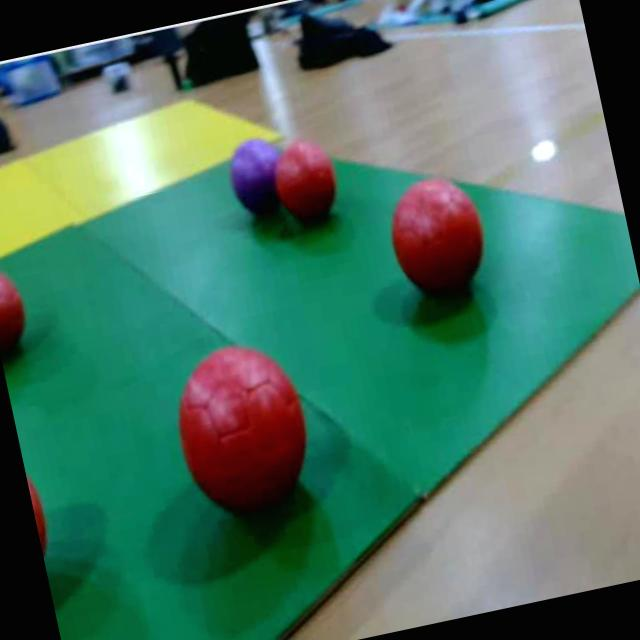purple_ball: (222, 128, 291, 218)
red_ball: (161, 332, 327, 538), (379, 162, 502, 316), (270, 130, 346, 232), (23, 462, 58, 574), (0, 255, 32, 358)
